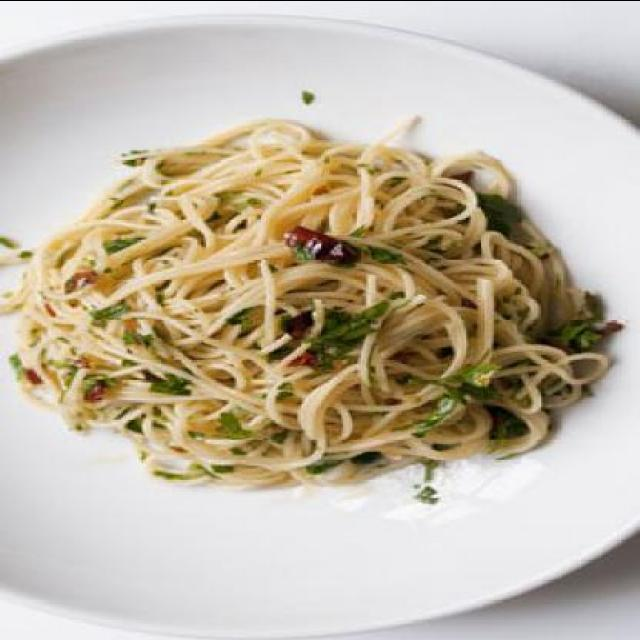Oil pasta: (18, 135, 554, 497)
